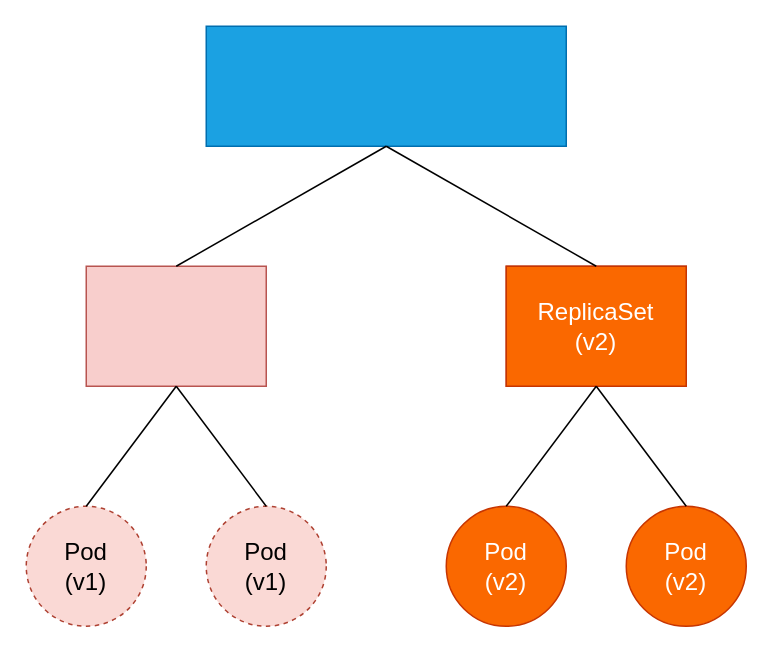
The diagram is 773 pixels wide and 653 high, and some of its shapes have lost their labels. Each missing label, with the box of its shape:
Deployment: (205, 25, 566, 146)
ReplicaSet (v1): (85, 265, 266, 386)
